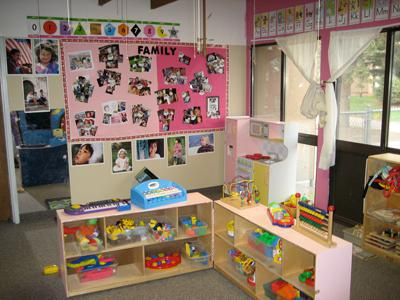Otro Obstaculo: (226, 115, 292, 204)
Ventana: (318, 42, 399, 148), (251, 45, 316, 144)
